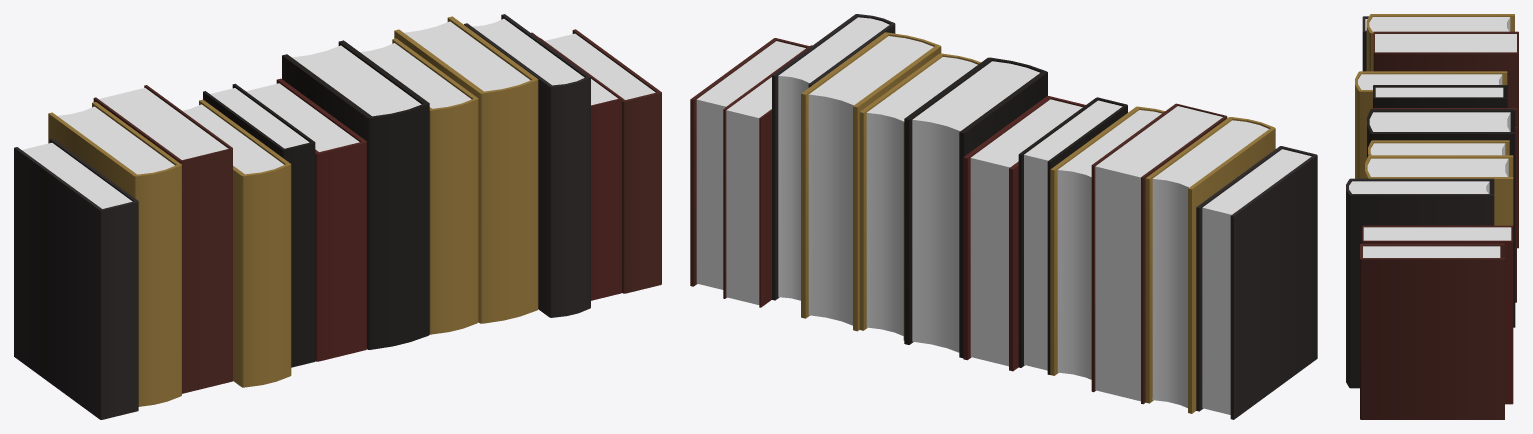
File: 074_books_long_reversed.glb
3 renders of one model, left to right at view 1: azimuth 30°, elevation 25°; view 2: azimuth 150°, elevation 25°; view 3: azimuth 270°, elevation 25°, orthographic. The views are drawn at different scales.
Visible parts, largest first — view 1: Plane.024, Plane.031, Plane.028, Plane.034, Plane.035, Plane.027, Plane.033, Plane.030, Plane.032, Plane.025, Plane.029, Plane.026; view 2: Plane.024, Plane.031, Plane.028, Plane.035, Plane.034, Plane.032, Plane.030, Plane.033, Plane.026, Plane.029, Plane.027, Plane.025; view 3: Plane.025, Plane.027, Plane.034, Plane.031, Plane.028, Plane.026, Plane.033, Plane.029, Plane.035, Plane.030, Plane.032, Plane.024.
Boxes of the visible parts, <box> form: Plane.024: <box>14,138,138,419</box>; Plane.031: <box>282,40,429,349</box>; Plane.028: <box>394,16,538,323</box>; Plane.034: <box>93,85,232,393</box>; Plane.035: <box>48,102,181,406</box>; Plane.027: <box>464,14,590,317</box>; Plane.033: <box>183,99,291,387</box>; Plane.030: <box>360,38,478,334</box>; Plane.032: <box>246,78,366,361</box>; Plane.025: <box>540,29,661,293</box>; Plane.029: <box>203,83,315,367</box>; Plane.026: <box>531,32,621,300</box>; Plane.024: <box>1196,146,1317,419</box>; Plane.031: <box>904,57,1047,358</box>; Plane.028: <box>801,32,941,331</box>; Plane.035: <box>1145,117,1275,413</box>; Plane.034: <box>1091,103,1227,404</box>; Plane.032: <box>963,96,1085,371</box>; Plane.030: <box>859,53,980,340</box>; Plane.033: <box>1050,106,1164,379</box>; Plane.026: <box>723,45,812,307</box>; Plane.029: <box>1018,97,1127,374</box>; Plane.027: <box>772,14,895,300</box>; Plane.025: <box>690,38,809,289</box>; Plane.025: <box>1360,243,1504,419</box>; Plane.027: <box>1346,178,1494,388</box>; Plane.034: <box>1373,31,1518,248</box>; Plane.031: <box>1367,109,1515,327</box>; Plane.028: <box>1365,155,1513,225</box>; Plane.026: <box>1362,225,1513,404</box>; Plane.033: <box>1355,71,1507,178</box>; Plane.029: <box>1373,85,1507,107</box>; Plane.035: <box>1366,14,1514,71</box>; Plane.030: <box>1368,140,1509,155</box>; Plane.032: <box>1372,108,1516,302</box>; Plane.024: <box>1362,16,1368,71</box>.
Size of the model in its own units: 1.89 by 0.7497 by 0.6029.
